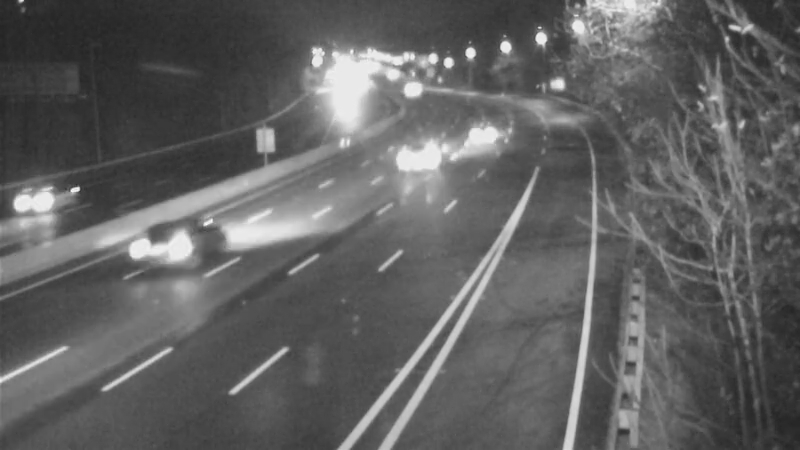vehicle: (388, 111, 468, 191), (127, 201, 207, 281), (1, 162, 80, 242), (384, 59, 434, 109), (460, 102, 510, 152)
